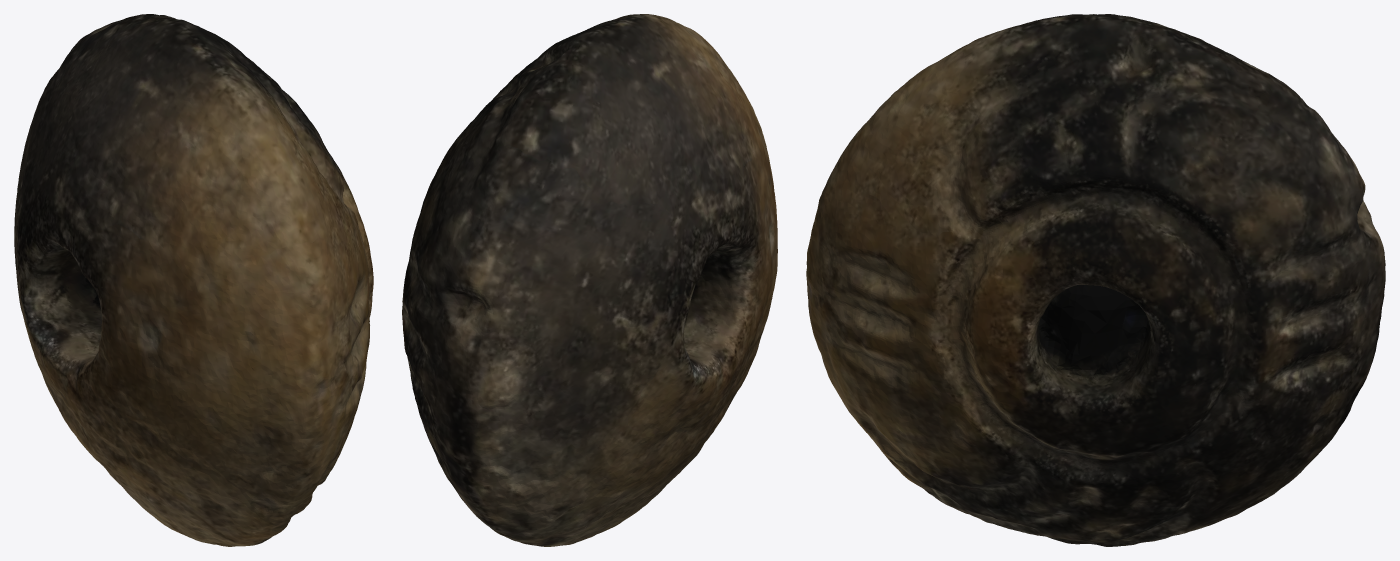
3 views of the same model, side by side, from view 1: azimuth 30°, elevation 25°; view 2: azimuth 150°, elevation 25°; view 3: azimuth 270°, elevation 25° (orthographic). The views are drawn at different scales.
Parts seen in each view (by area): view 1: Mesh_0.020; view 2: Mesh_0.020; view 3: Mesh_0.020.
Part boxes in pixels (x1,y1,x2,y2): Mesh_0.020: [14, 14, 373, 546]; Mesh_0.020: [402, 14, 777, 546]; Mesh_0.020: [806, 14, 1385, 546].
Size of the model in its own units: 0.0855 by 0.148 by 0.1486.
Materials: 1 (1 with a texture image).
